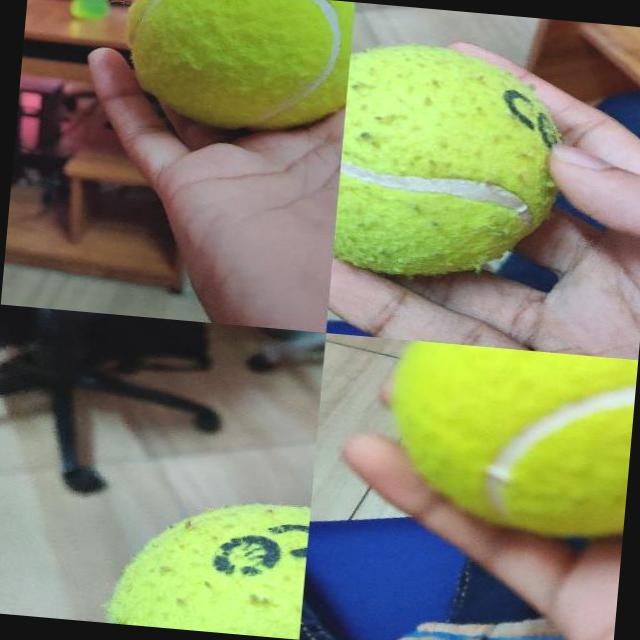Tennis Ball: (332, 38, 572, 288), (385, 339, 638, 540), (118, 0, 355, 139), (107, 490, 310, 638)
